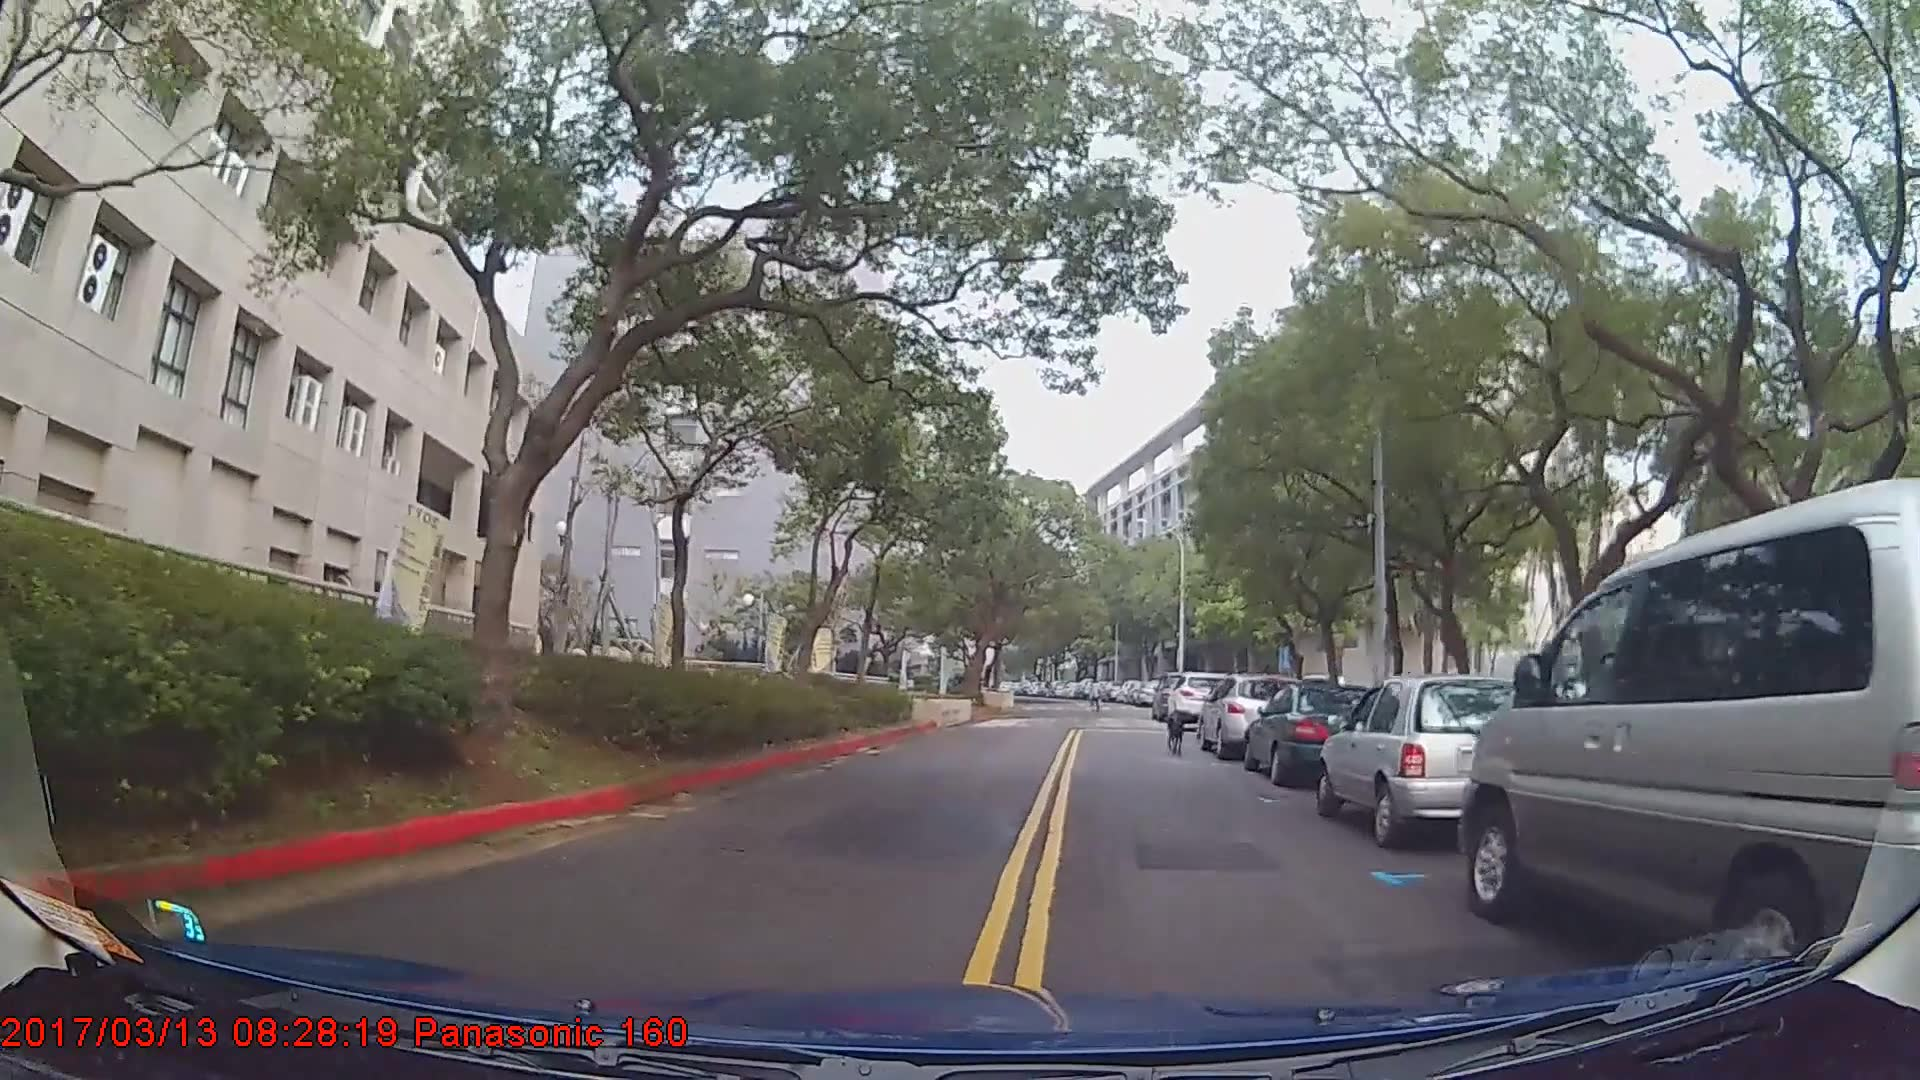vehicle: (1452, 472, 1920, 971), (1315, 673, 1549, 847), (1242, 680, 1391, 791), (1197, 673, 1296, 757), (1167, 671, 1234, 728)
